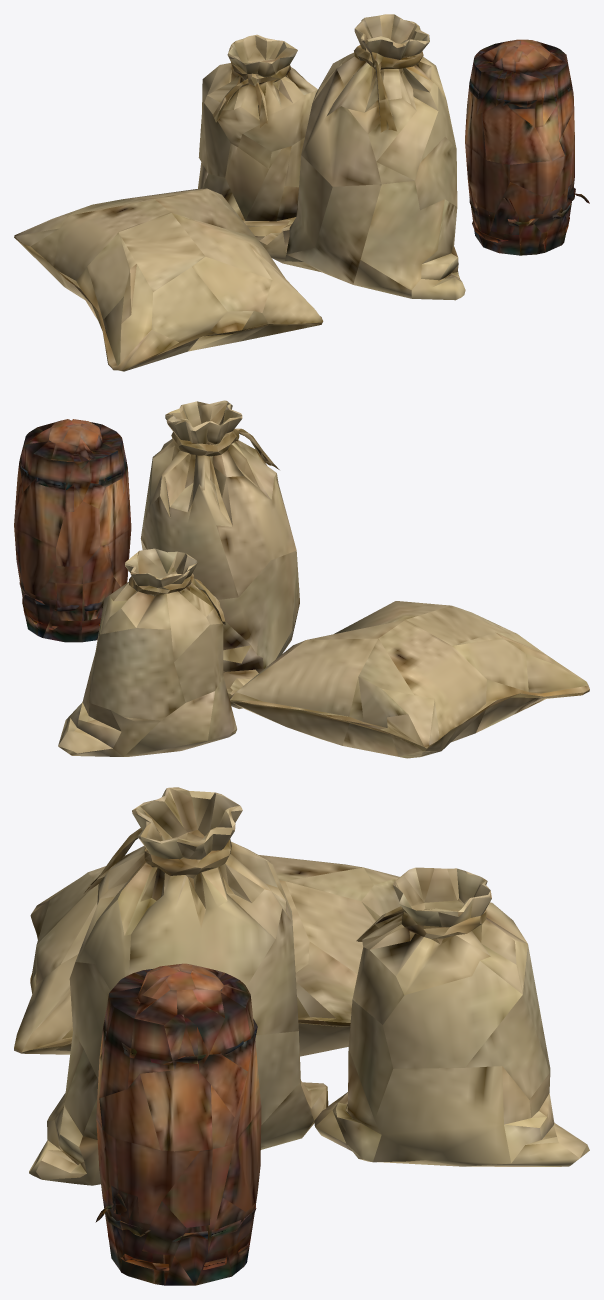
Rendered from sacks-barrel.lod2.glb.
3 renders of one model, top to bottom at view 1: azimuth 30°, elevation 25°; view 2: azimuth 150°, elevation 25°; view 3: azimuth 270°, elevation 25°, orthographic. The views are drawn at different scales.
Size of the model in its own units: 1.65 by 0.75 by 1.1.
2 materials, 2 textured.
